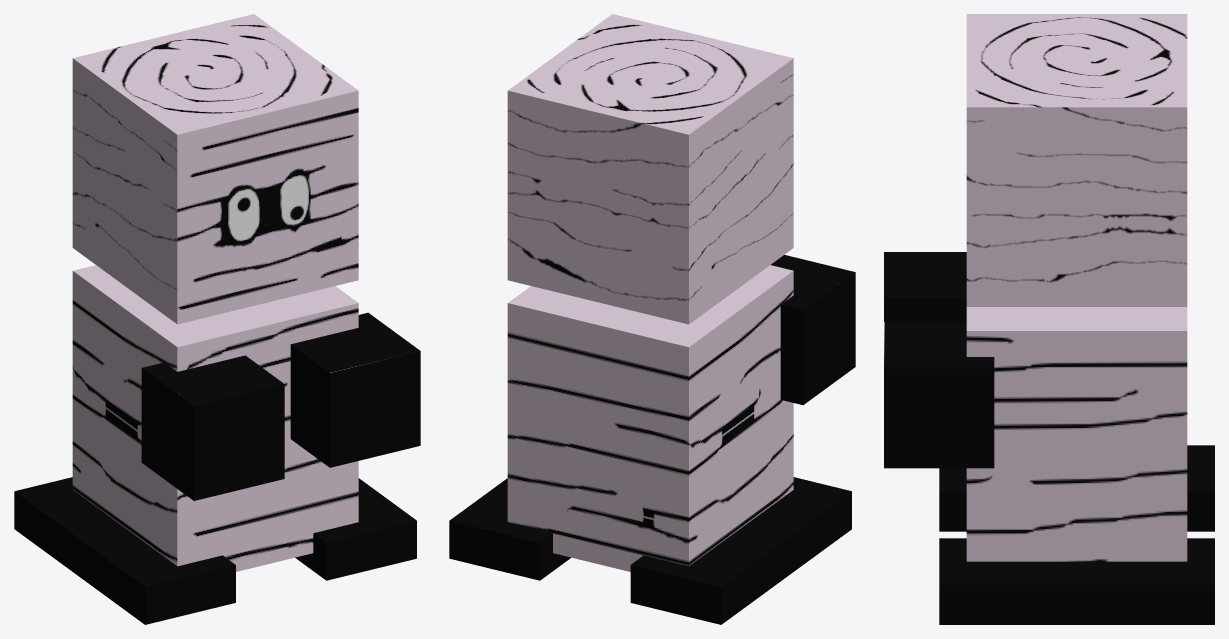
Rendered from Mummy.obj.
The picture shows the model from 3 angles, left to right: view 1: azimuth 30°, elevation 25°; view 2: azimuth 150°, elevation 25°; view 3: azimuth 270°, elevation 25°; orthographic projection. The views are drawn at different scales.
Parts seen in each view (by area): view 1: 立方体; view 2: 立方体; view 3: 立方体.
Boxes of the visible parts, x1,y1,x2,y2 form: 立方体: (14, 14, 420, 624); 立方体: (449, 14, 855, 624); 立方体: (884, 14, 1214, 624).
Bounding box in the file's own units: 1.2 × 1.98 × 1.2.
